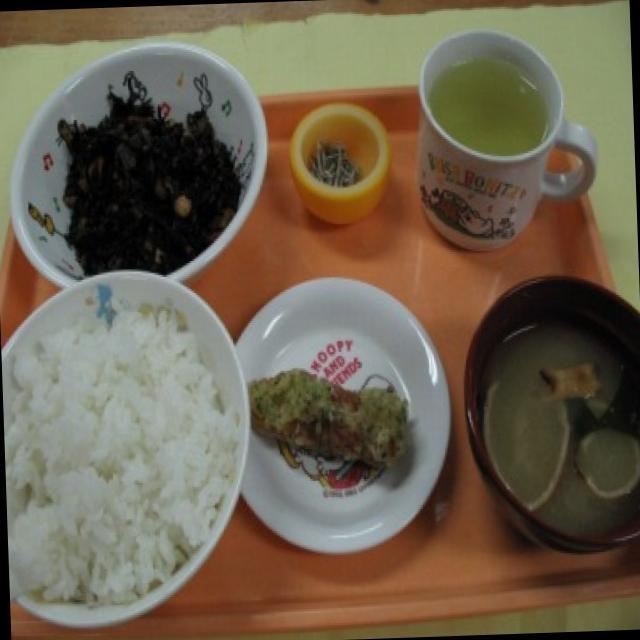Rice: (0, 295, 239, 593)
